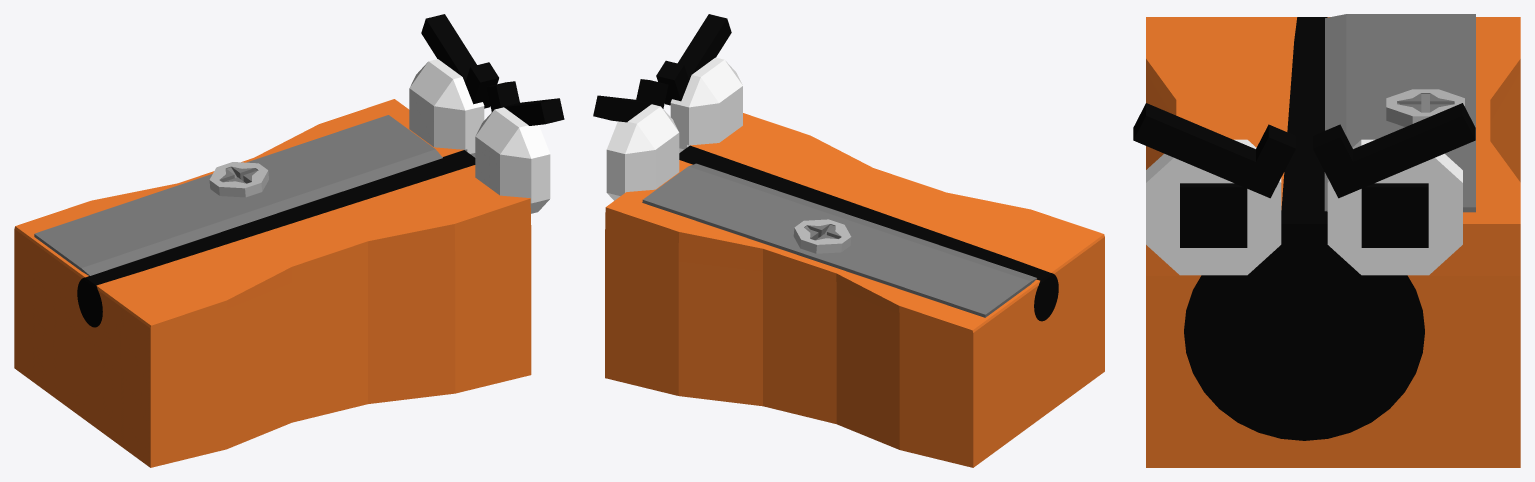
Rendered from SharpenerVar2.fbx.
3 views of the same model, side by side, from view 1: azimuth 30°, elevation 25°; view 2: azimuth 150°, elevation 25°; view 3: azimuth 270°, elevation 25° (orthographic). The views are drawn at different scales.
Visible parts, largest first — view 1: SharpRed; view 2: SharpRed; view 3: SharpRed.
Part boxes in pixels (x1,y1,x2,y2): SharpRed: (14, 14, 564, 467); SharpRed: (593, 14, 1104, 467); SharpRed: (1133, 14, 1520, 467).
Bounding box in the file's own units: 128 × 215 × 135.
